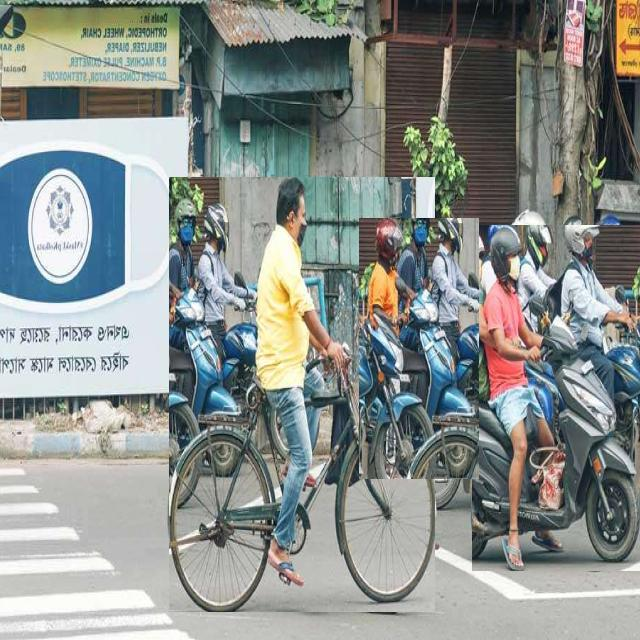bicycle: (169, 178, 435, 612)
motorcycle: (472, 225, 640, 571), (405, 212, 550, 507), (359, 218, 479, 479), (346, 205, 406, 409)
